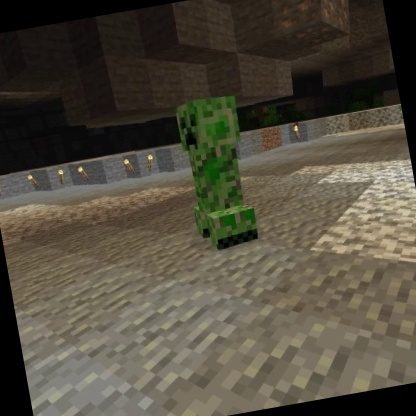creeper: (170, 89, 266, 258)
